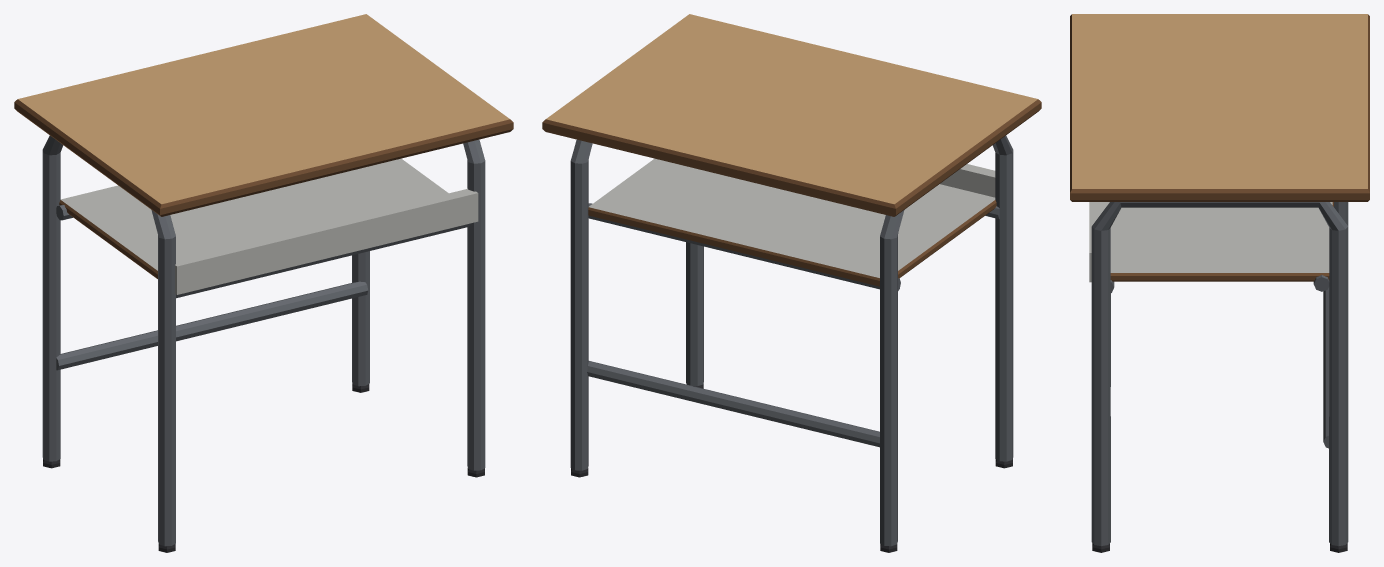
The model's file is FN_Desk_School.glb.
The picture shows the model from 3 angles, left to right: view 1: azimuth 30°, elevation 25°; view 2: azimuth 150°, elevation 25°; view 3: azimuth 270°, elevation 25°; orthographic projection. The views are drawn at different scales.
Visible parts, largest first — view 1: FN_Desk_School; view 2: FN_Desk_School; view 3: FN_Desk_School.
Boxes of the visible parts, x1,y1,x2,y2 form: FN_Desk_School: (14, 14, 513, 552); FN_Desk_School: (542, 14, 1041, 552); FN_Desk_School: (1070, 14, 1369, 552).
Bounding box in the file's own units: 0.7 × 0.68 × 0.5.
Materials: 1 (1 with a texture image).
